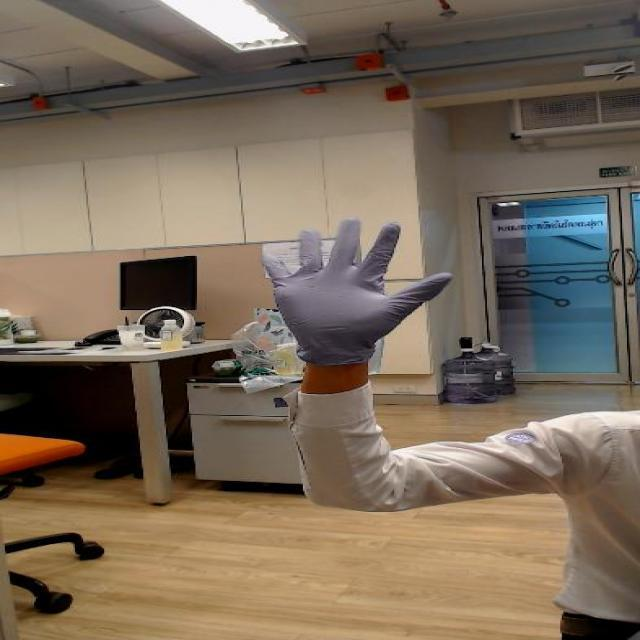with_gloves: (244, 205, 469, 328)
